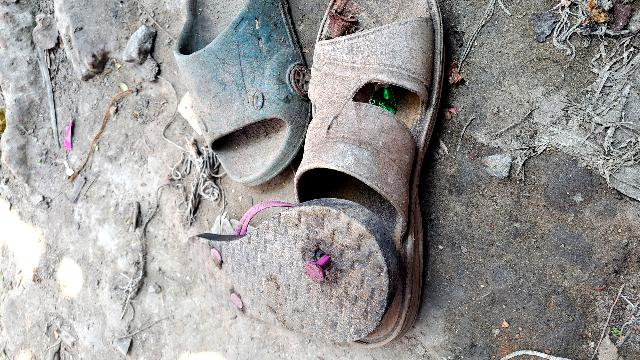sandal: (275, 0, 468, 230), (178, 194, 370, 353), (167, 0, 311, 197)
